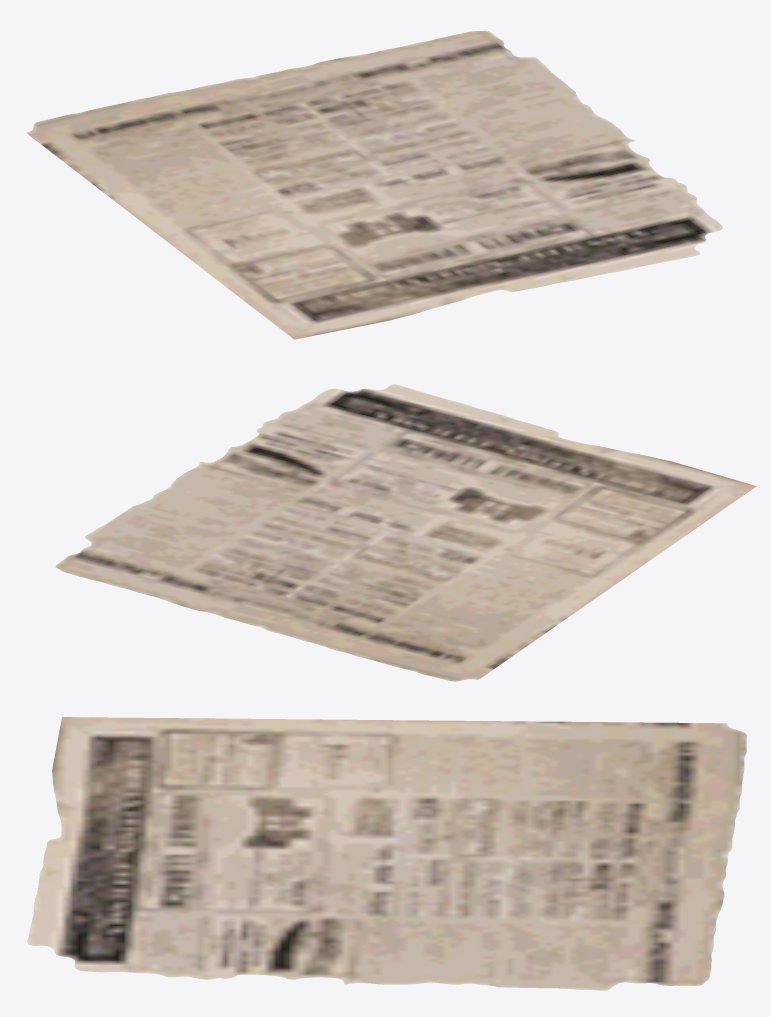
Rendered from newsPaper2.glb.
The picture shows the model from 3 angles, top to bottom: view 1: azimuth 30°, elevation 25°; view 2: azimuth 150°, elevation 25°; view 3: azimuth 270°, elevation 25°; orthographic projection. The views are drawn at different scales.
Parts seen in each view (by area): view 1: News_2_Newspaper_0; view 2: News_2_Newspaper_0; view 3: News_2_Newspaper_0.
Boxes of the visible parts, bbox=[...] form: News_2_Newspaper_0: bbox=[26, 30, 722, 339]; News_2_Newspaper_0: bbox=[55, 384, 756, 681]; News_2_Newspaper_0: bbox=[27, 717, 746, 990].
Bounding box in the file's own units: 0.8315 × 4.1e-08 × 0.9134.
1 material, 1 textured.
